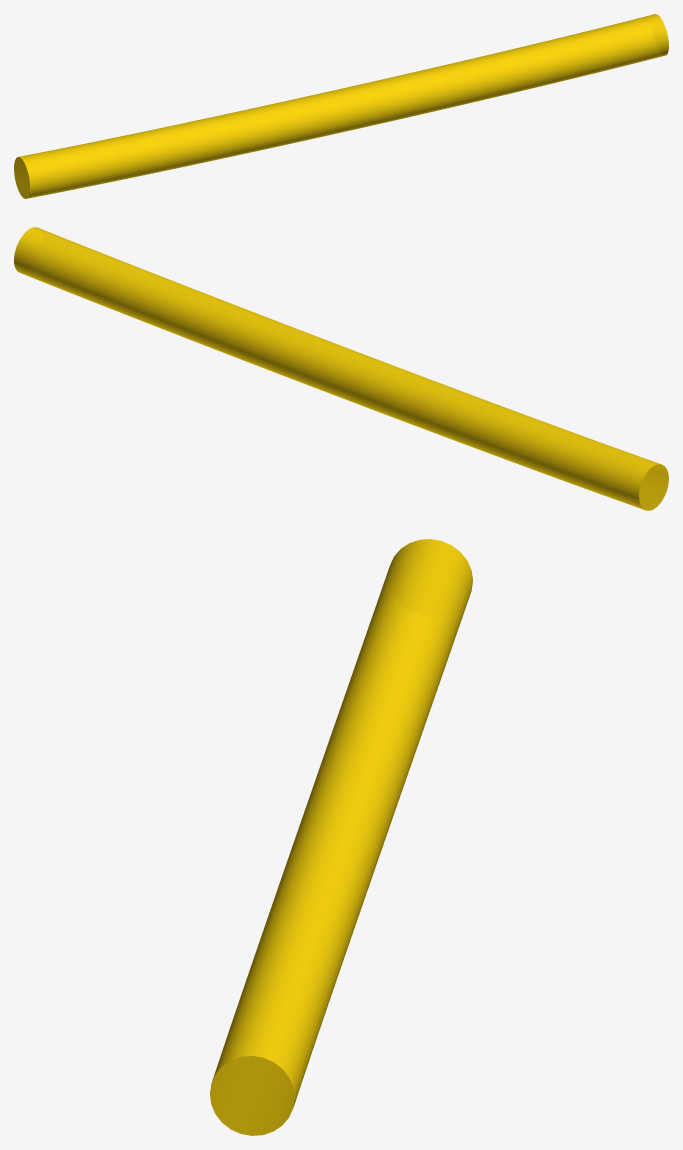
Rendered from Event_420107950_track_61.fbx.
3 renders of one model, top to bottom at view 1: azimuth 30°, elevation 25°; view 2: azimuth 150°, elevation 25°; view 3: azimuth 270°, elevation 25°, orthographic. The views are drawn at different scales.
Visible parts, largest first — view 1: Model; view 2: Model; view 3: Model.
Part boxes in pixels (bbox=[...]): Model: bbox=[14, 14, 668, 198]; Model: bbox=[14, 227, 668, 510]; Model: bbox=[210, 539, 472, 1135].
Bounding box in the file's own units: 0.6463 × 0.0718 × 0.123.
